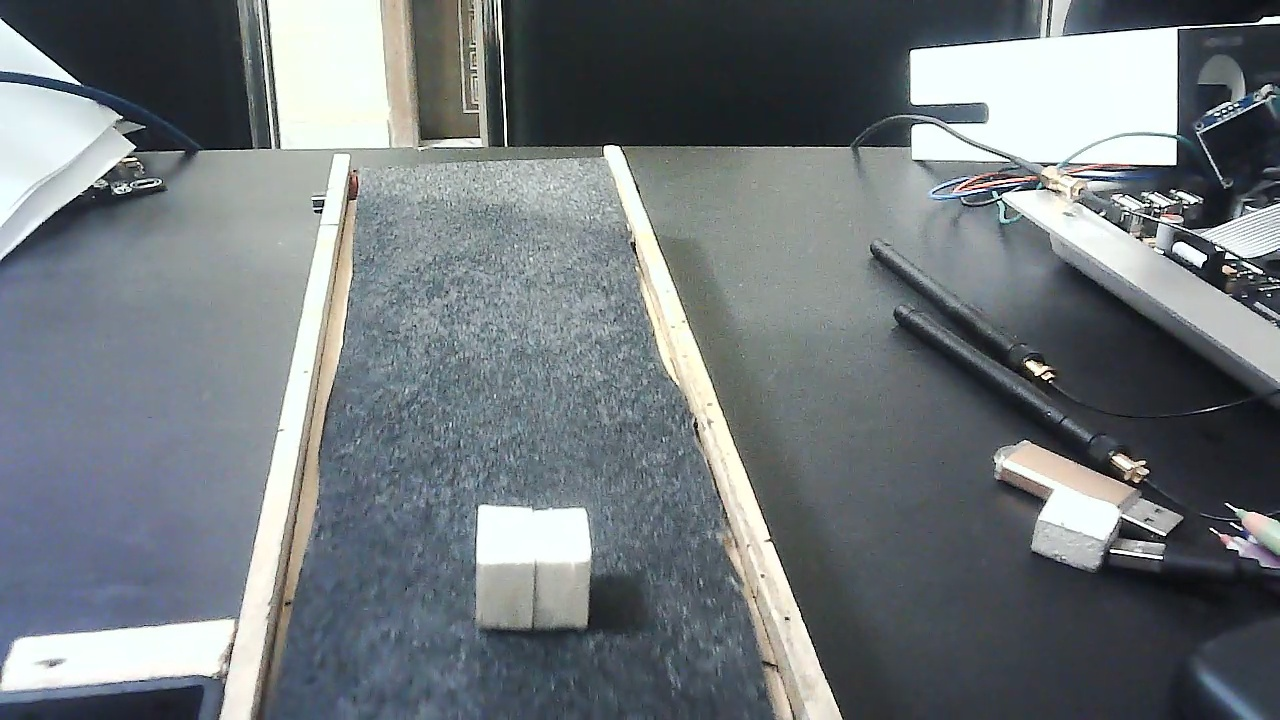Small: (472, 507, 594, 629)
